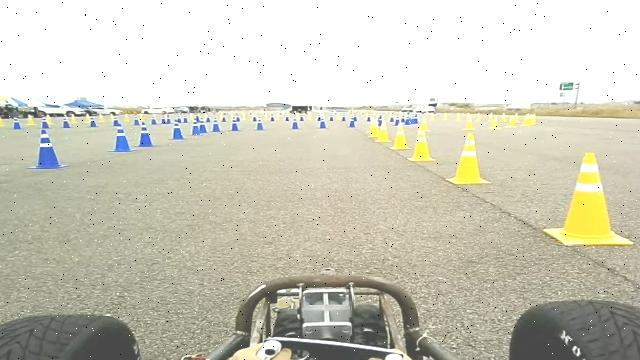blue cone: (27, 128, 69, 170), (108, 127, 136, 152), (133, 122, 156, 148), (168, 122, 186, 140), (198, 116, 210, 134), (189, 118, 200, 135), (230, 114, 240, 131), (211, 116, 218, 132), (150, 113, 158, 125), (132, 116, 140, 126)
yellow cone: (542, 152, 634, 246), (445, 132, 491, 185), (407, 130, 436, 162), (390, 122, 410, 150), (374, 121, 391, 143), (367, 122, 380, 137), (462, 116, 475, 130), (418, 118, 430, 131), (506, 114, 517, 128), (489, 113, 499, 128)
